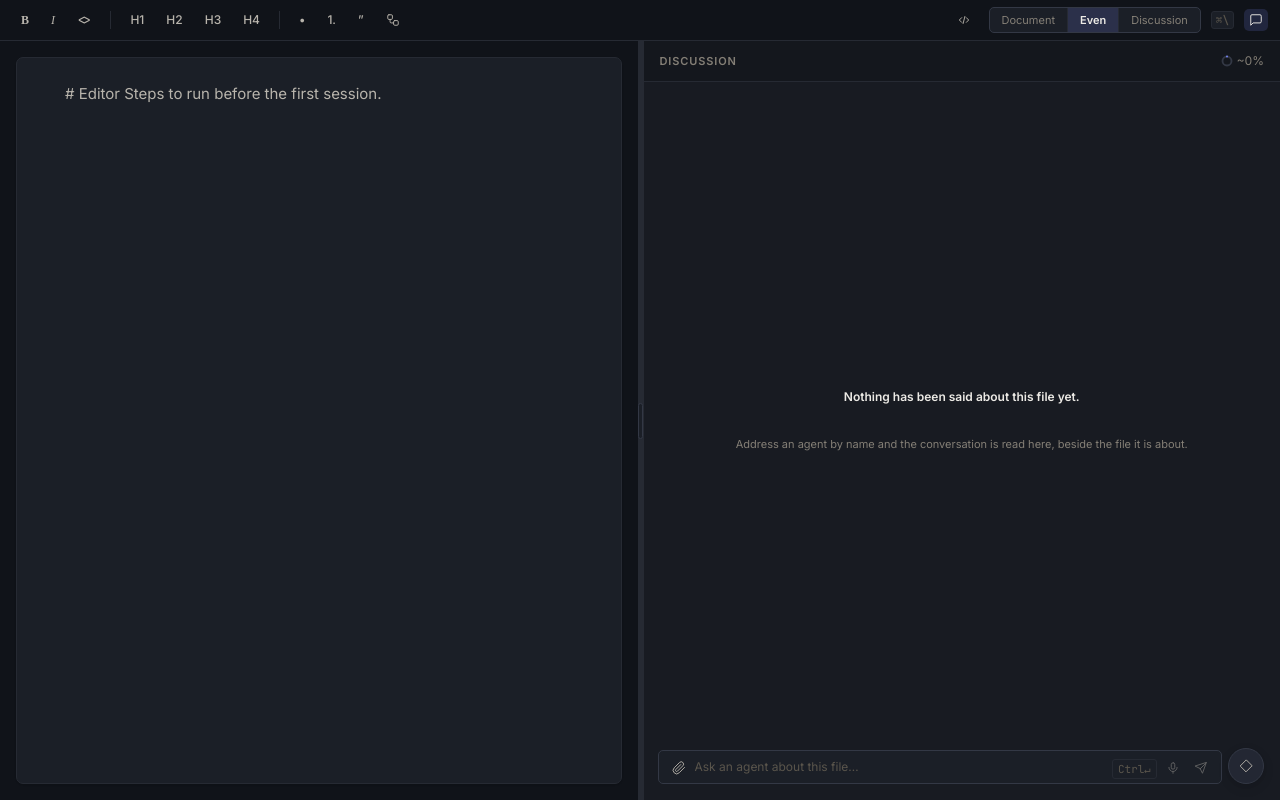
Test case: ACT-FR-16, ACT-FR-17: posting the column's opening composer › ACT-FR-16, ACT-FR-LXKD, ACT-FR-19: a post opens a whole-target discussion and shows it in the column, with focus in its reply composer
Expected: the button named "Actions" is shown, [1228,748,1264,784]
Type "what next?" into the text box with placeholder "Ask an agent about this file…".
click(901, 767); type("what next?")  # box [694,755,1108,779]
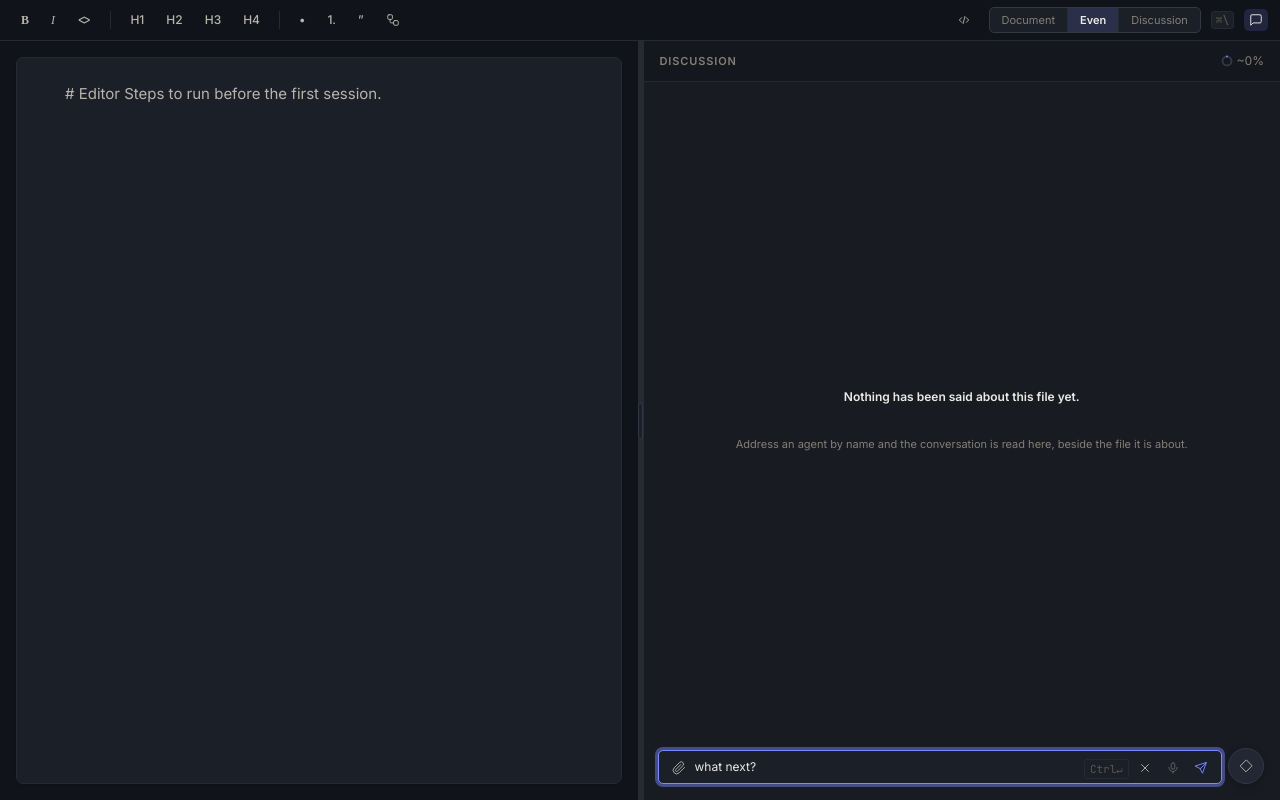
Click the button named "Post".
click(1201, 768)  # box [1189,757,1213,779]
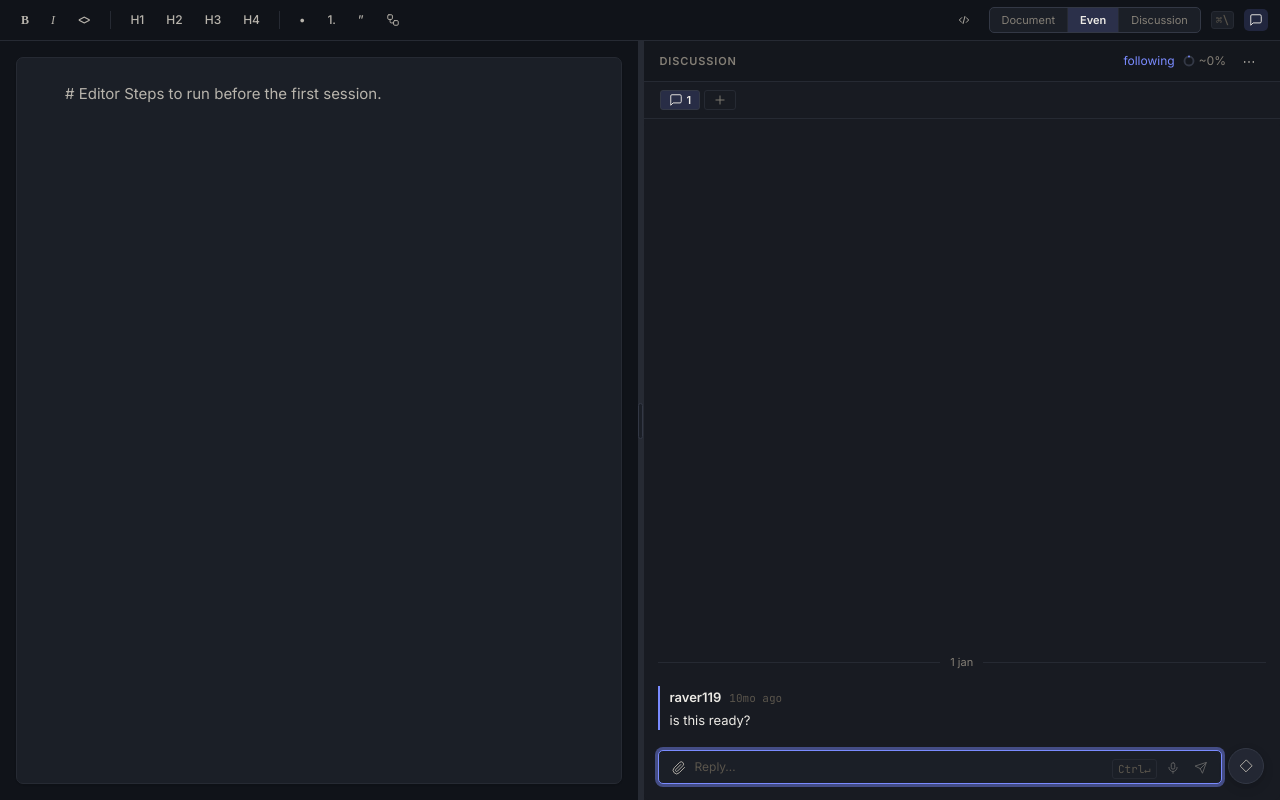
Now the element with test id "comment-thread-d-new" is shown, box [644,119,1279,799]
Now the element with test id "draft-open-discussion" is gone
Now the number of tabs is 1, box [660,90,700,110]
